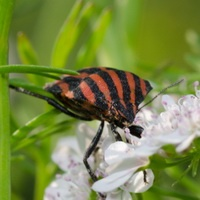insect: (9, 67, 151, 181), (93, 131, 189, 192)
